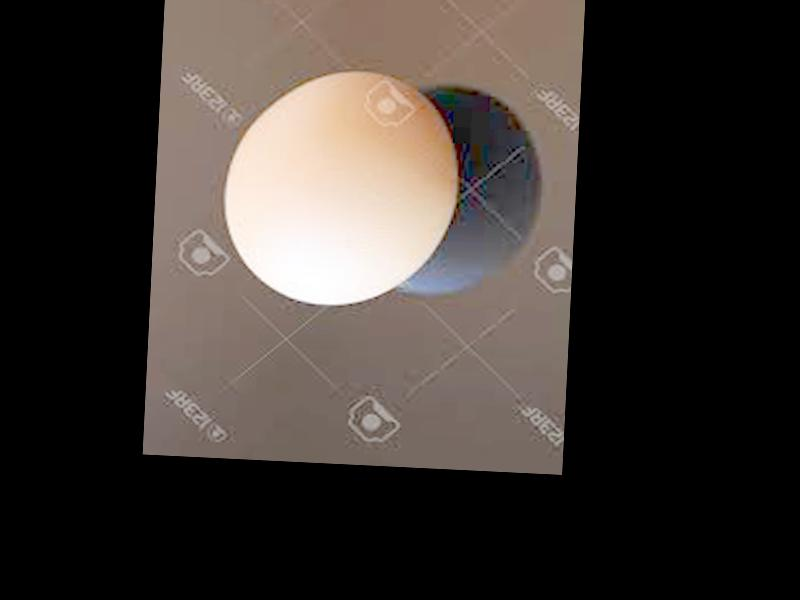Eggs: (219, 66, 464, 312)
